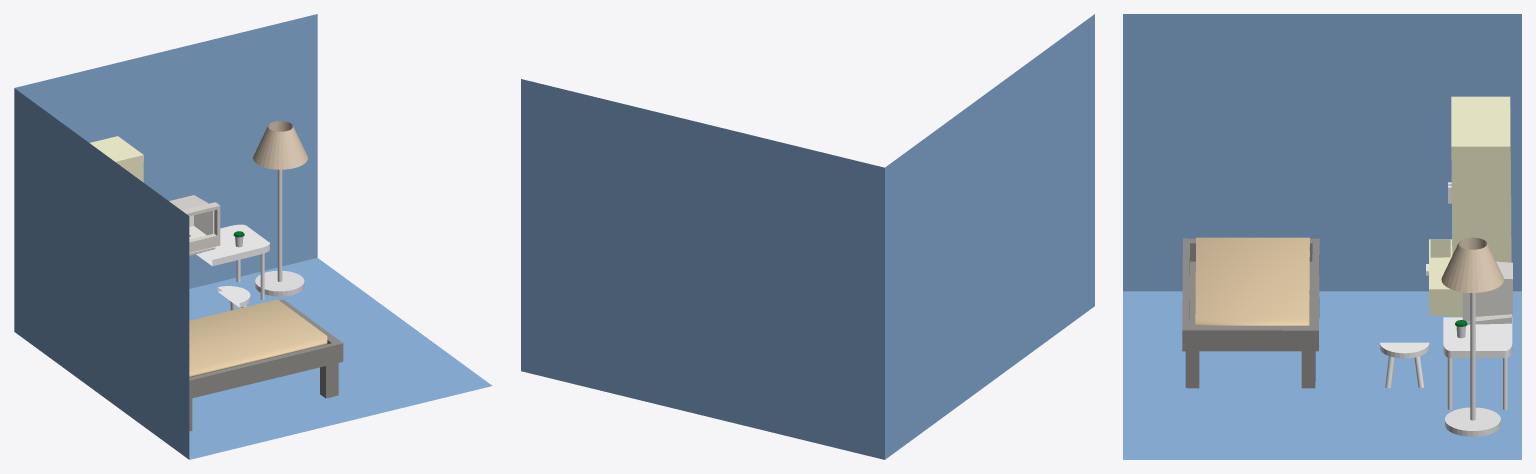
The picture shows the model from 3 angles, left to right: view 1: azimuth 30°, elevation 25°; view 2: azimuth 150°, elevation 25°; view 3: azimuth 270°, elevation 25°; orthographic projection. The views are drawn at different scales.
Parts seen in each view (by area): view 1: Plane, bad cusion, bad, Table, light cap, computer, light bottom, cloth, chair; view 2: Plane; view 3: Plane, cloth, bad cusion, bad, Table, light cap, light bottom, computer, chair.
Part boxes in pixels (left/top/right/bottom): Plane: left=14, top=14, right=492, bottom=459; bad cusion: left=189, top=299, right=327, bottom=377; bad: left=189, top=299, right=343, bottom=431; Table: left=196, top=224, right=269, bottom=300; light cap: left=253, top=121, right=307, bottom=169; computer: left=169, top=195, right=220, bottom=255; light bottom: left=255, top=169, right=304, bottom=296; cloth: left=90, top=136, right=143, bottom=182; chair: left=217, top=286, right=250, bottom=310; Plane: left=521, top=14, right=1094, bottom=459; Plane: left=1123, top=14, right=1521, bottom=459; cloth: left=1426, top=96, right=1511, bottom=317; bad cusion: left=1195, top=237, right=1309, bottom=325; bad: left=1182, top=238, right=1319, bottom=388; Table: left=1443, top=317, right=1512, bottom=409; light cap: left=1441, top=237, right=1503, bottom=292; light bottom: left=1445, top=293, right=1500, bottom=436; computer: left=1462, top=261, right=1512, bottom=324; chair: left=1380, top=342, right=1429, bottom=388.
Bounding box in the file's own units: 12.23 × 9.39 × 12.23.
